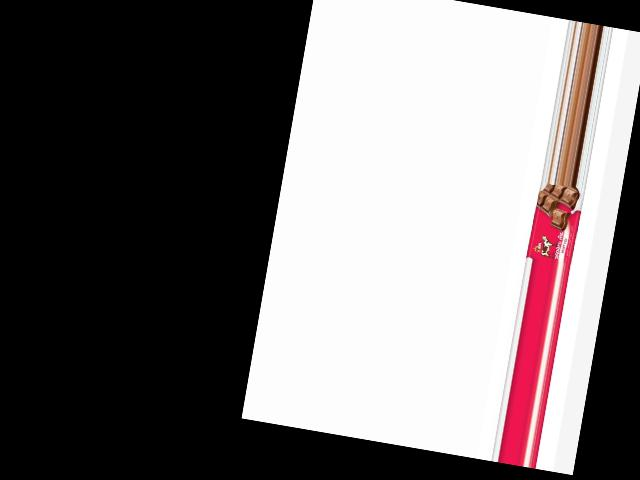chocolate: (527, 181, 585, 266)
